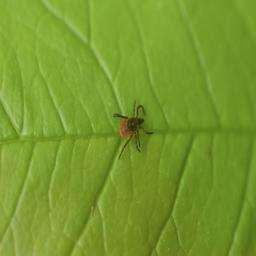Ixodes scapularis: (114, 100, 152, 159)
